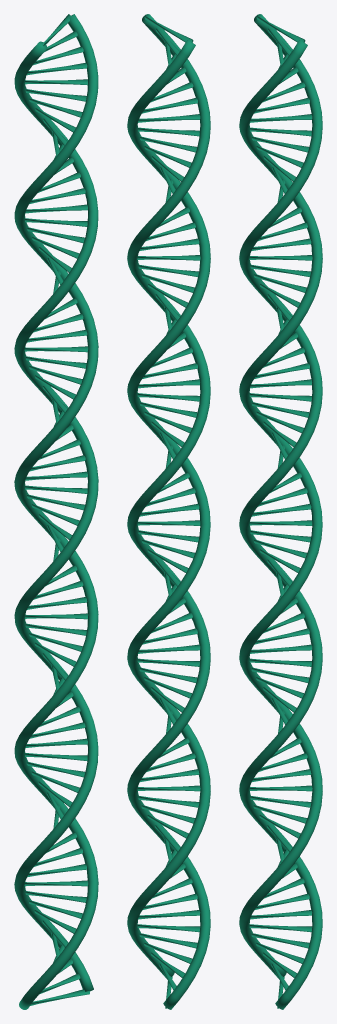
The model's file is DNA.glb.
3 views of the same model, side by side, from view 1: azimuth 90°, elevation 25°; view 2: azimuth 150°, elevation 25°; view 3: azimuth 330°, elevation 25° (orthographic).
Visible parts, largest first — view 1: DNA; view 2: DNA; view 3: DNA.
Part boxes in pixels (x1,y1,x2,y2): DNA: [14, 14, 98, 1009]; DNA: [127, 14, 210, 1009]; DNA: [239, 14, 322, 1009].
Bounding box in the file's own units: 1.58 × 20.12 × 1.58.
